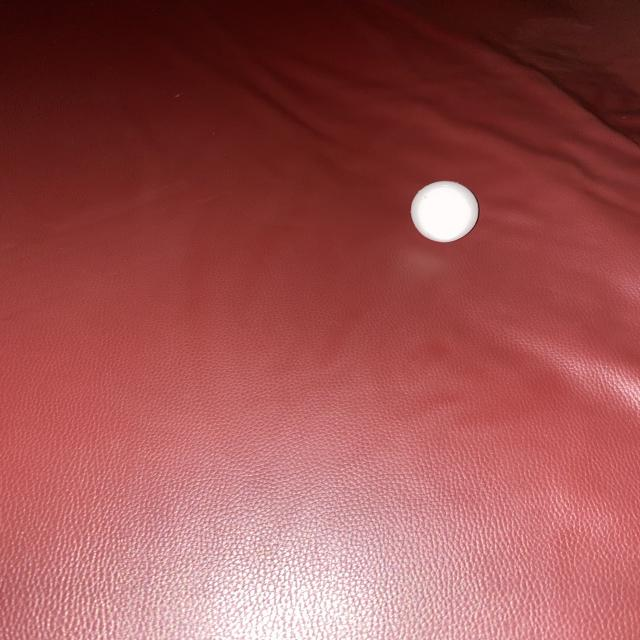egg: (407, 174, 485, 248)
